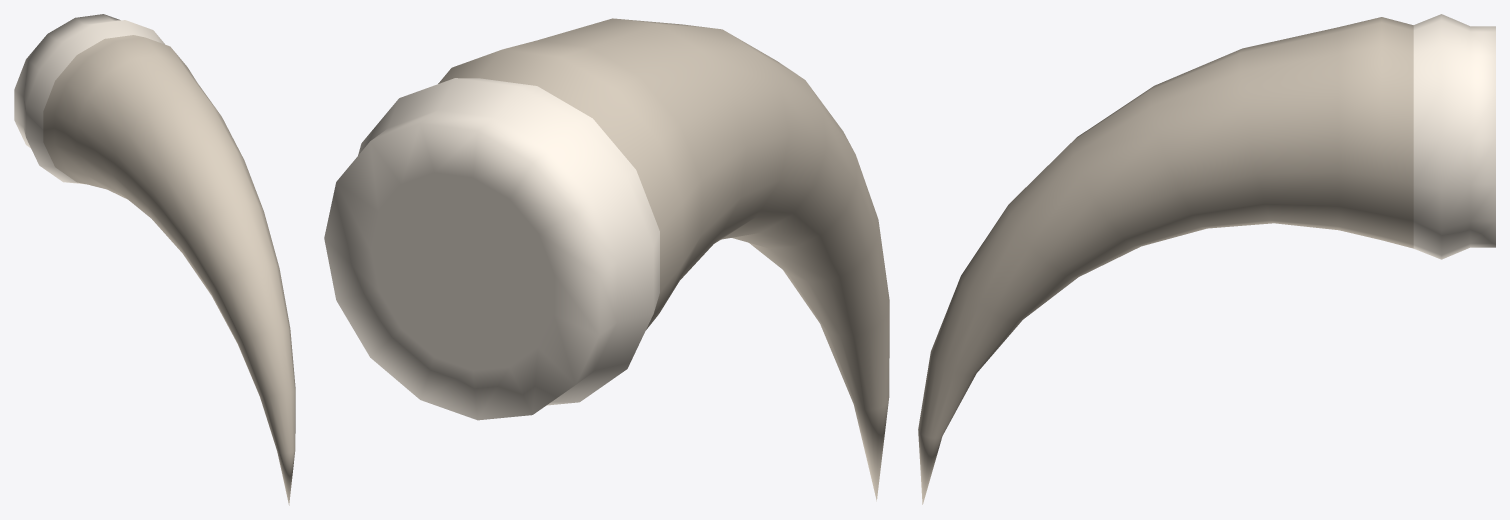
File: bearclaw.glb
3 views of the same model, side by side, from view 1: azimuth 30°, elevation 25°; view 2: azimuth 150°, elevation 25°; view 3: azimuth 270°, elevation 25° (orthographic). The views are drawn at different scales.
Visible parts, largest first — view 1: Cone.1; view 2: Cone.1; view 3: Cone.1.
Boxes of the visible parts, x1,y1,x2,y2 form: Cone.1: (14,14,295,505); Cone.1: (324,18,889,501); Cone.1: (918,14,1495,504).
Size of the model in its own units: 120 by 259 by 283.
